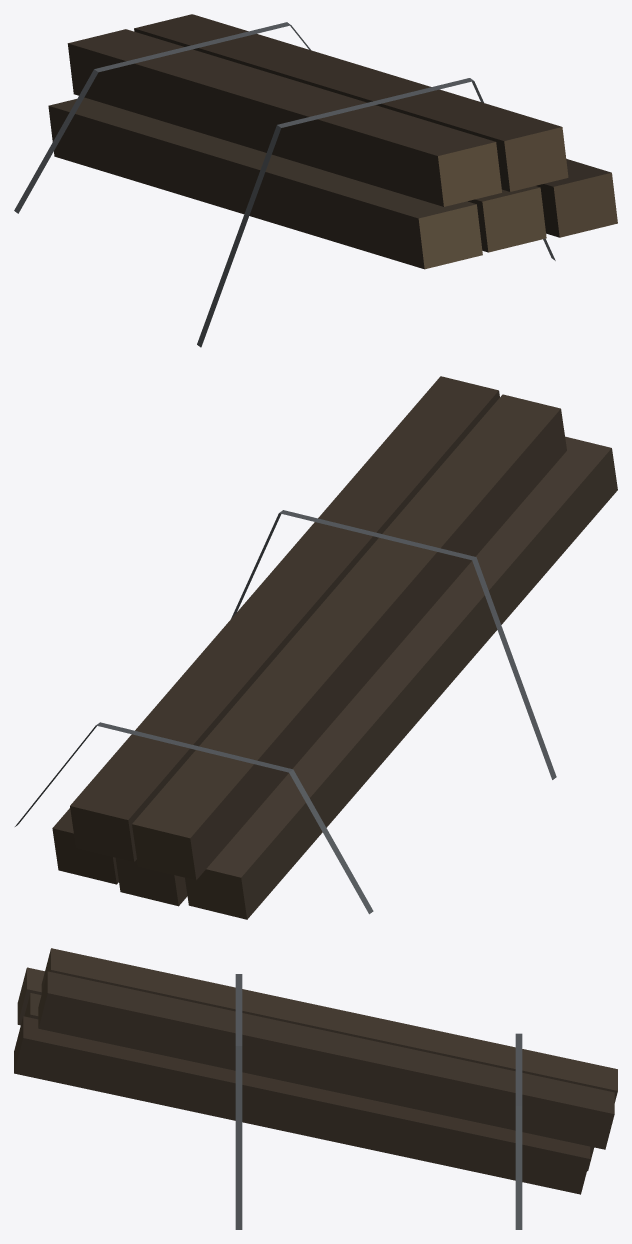
Rendered from railway-ties.glb.
3 views of the same model, one above another, from view 1: azimuth 30°, elevation 25°; view 2: azimuth 150°, elevation 25°; view 3: azimuth 270°, elevation 25° (orthographic). The views are drawn at different scales.
Visible parts, largest first — view 1: RailwayTies_TieWood, RailwayTies_TieEnd, RailwayTies_Strap; view 2: RailwayTies_TieWood, RailwayTies_TieEnd, RailwayTies_Strap; view 3: RailwayTies_TieWood, RailwayTies_Strap, RailwayTies_TieEnd.
Boxes of the visible parts, x1,y1,x2,y2 form: RailwayTies_TieWood: (48, 14, 611, 269); RailwayTies_TieEnd: (418, 127, 617, 269); RailwayTies_Strap: (14, 22, 555, 347); RailwayTies_TieWood: (53, 376, 617, 919); RailwayTies_TieEnd: (52, 806, 247, 919); RailwayTies_Strap: (15, 510, 556, 914); RailwayTies_TieWood: (14, 948, 617, 1194); RailwayTies_Strap: (235, 974, 522, 1229); RailwayTies_TieEnd: (14, 949, 50, 1072).
Bounding box in the file's own units: 1.4 × 0.9522 × 2.7.
